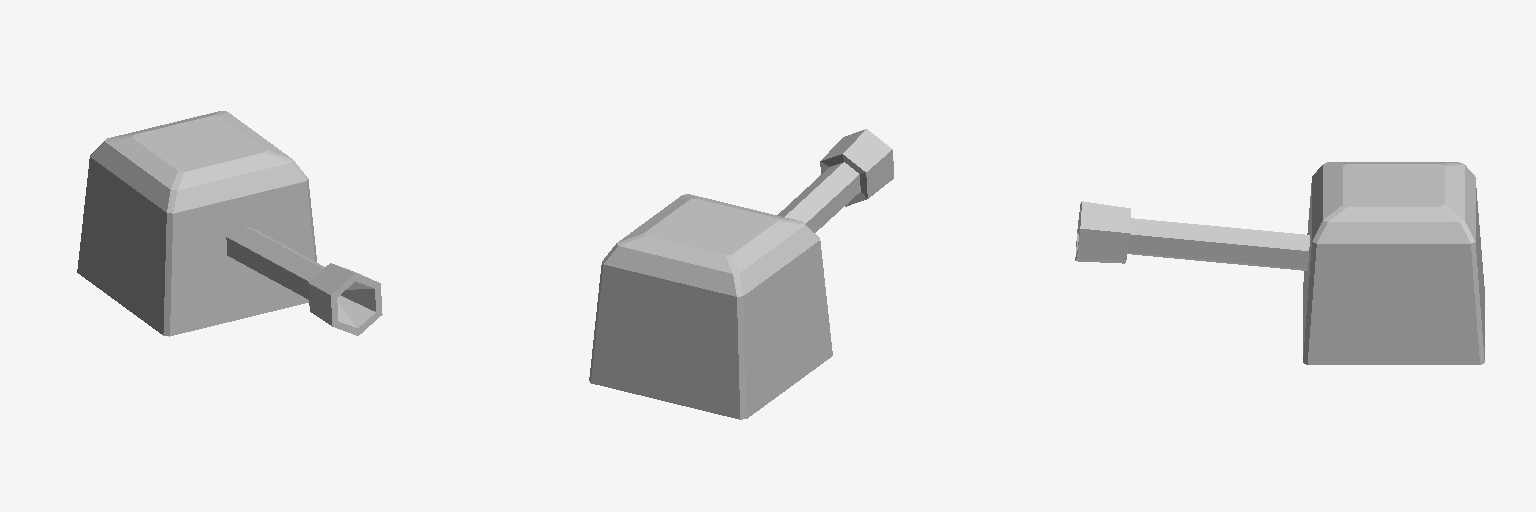
The model's file is EnemyTankCannon.obj.
The picture shows the model from 3 angles: view 1: azimuth 30°, elevation 25°; view 2: azimuth 150°, elevation 25°; view 3: azimuth 270°, elevation 25°; orthographic projection.
Parts seen in each view (by area): view 1: Cylinder.002; view 2: Cylinder.002; view 3: Cylinder.002.
Boxes of the visible parts, x1=… form: Cylinder.002: x1=77, y1=111, x2=382, y2=336; Cylinder.002: x1=589, y1=129, x2=893, y2=419; Cylinder.002: x1=1075, y1=162, x2=1484, y2=364.
Bounding box in the file's own units: 0.2712 × 0.2323 × 0.6103.